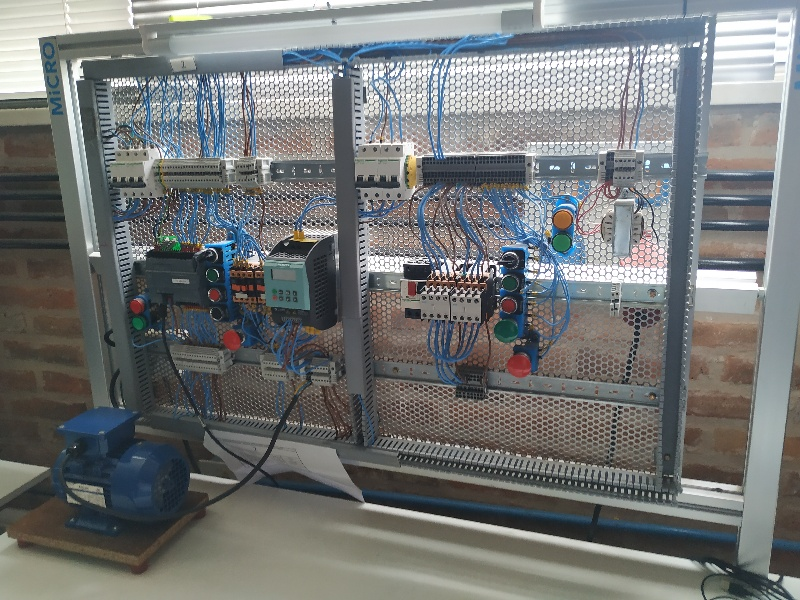Tablero 2: (88, 66, 678, 479)
